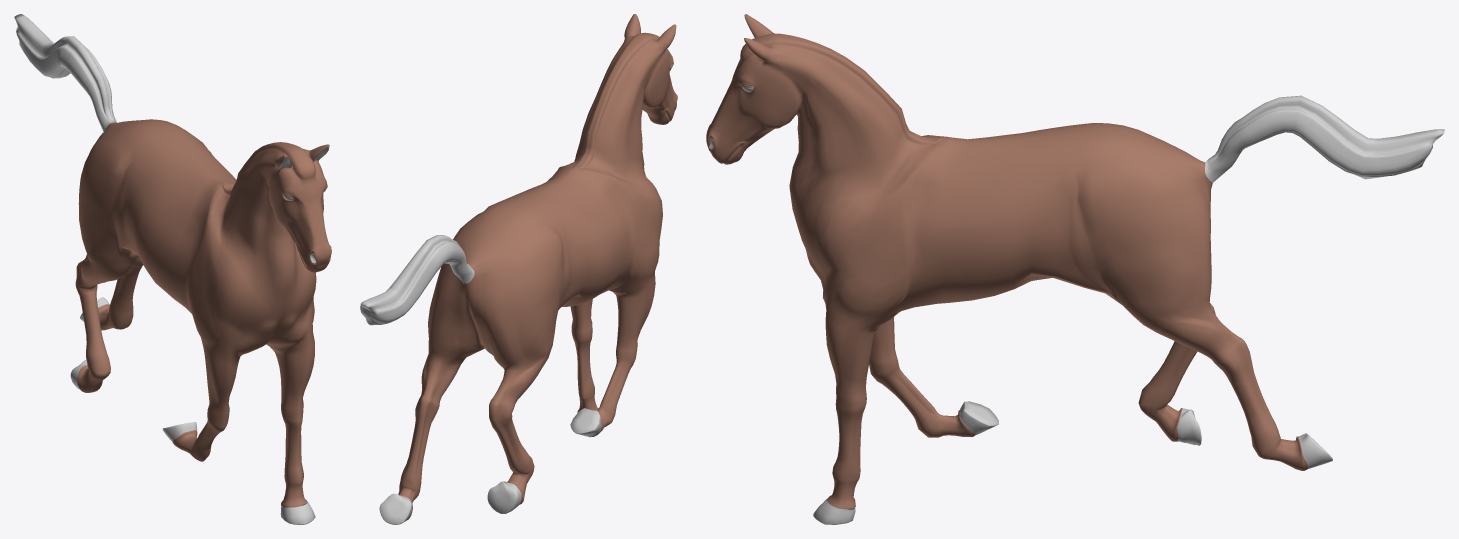
The model's file is horse_obj_2.obj.
The picture shows the model from 3 angles, left to right: view 1: azimuth 30°, elevation 25°; view 2: azimuth 150°, elevation 25°; view 3: azimuth 270°, elevation 25°; orthographic projection. The views are drawn at different scales.
Parts seen in each view (by area): view 1: Figure_1; view 2: Figure_1; view 3: Figure_1.
Boxes of the visible parts, <box> form: Figure_1: <box>14,14,331,524</box>; Figure_1: <box>360,14,677,524</box>; Figure_1: <box>706,14,1444,524</box>.
Size of the model in its own units: 0.2421 by 0.8354 by 1.18.
